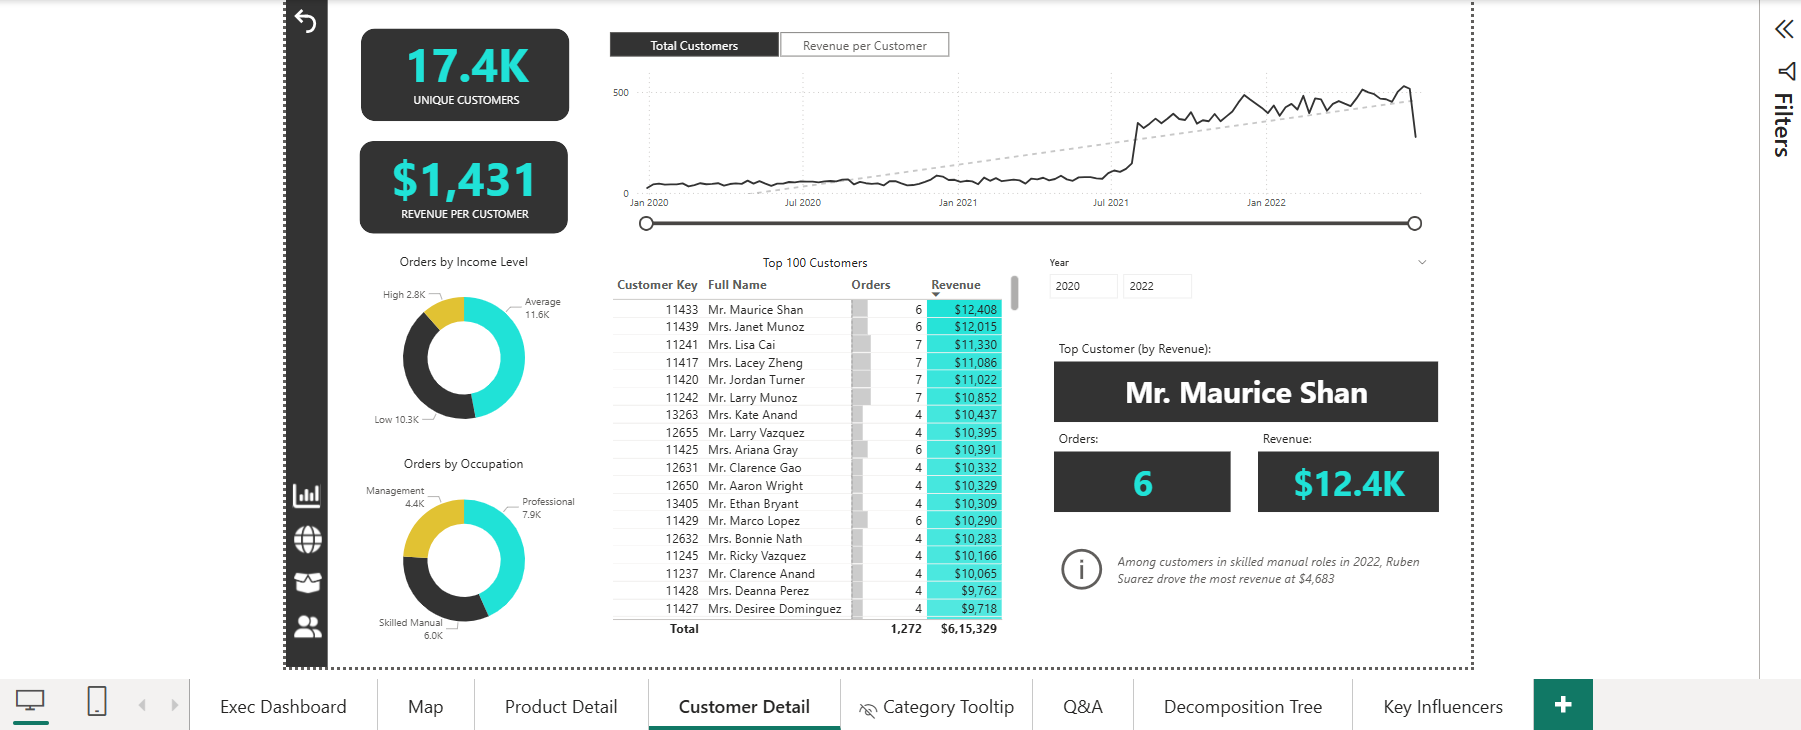

Layout of this report page (visuals, bound fields, positions):
{"tool":"powerbi","page":{"name":"Customer Detail","canvas":[1280,720],"ordinal":3},"visuals":[{"type":"shape","box":[0,0,45,720],"z":0},{"type":"actionButton","box":[2.5,516.7,45.6,37.8],"z":0,"group":"g1"},{"type":"shape","box":[81.7,30,225,100],"z":1000},{"type":"actionButton","box":[3.3,563.4,45.6,37.8],"z":1000,"group":"g1"},{"type":"actionButton","box":[3.3,611.1,45.6,37.8],"z":2000,"group":"g1"},{"type":"shape","box":[80,152.7,225,100],"z":2000},{"type":"card","fields":{"Values":["Measure Table.Total Customers"]},"box":[66.7,0,256.2,150],"z":3000},{"type":"actionButton","box":[3.3,657.8,45.6,37.8],"z":3000,"group":"g1"},{"type":"card","fields":{"Values":["Measure Table.Average Revenue per Customer"]},"box":[65,122.7,256.2,150],"z":4000},{"type":"lineChart","fields":{"Y":["Measure Table.Total Customers"],"Category":["Calendar Lookup.Date Hierarchy.Year","Calendar Lookup.Date Hierarchy.Start of Month","Calendar Lookup.Date Hierarchy.Start of Week","Calendar Lookup.Date Hierarchy.Date"]},"box":[345.9,63.3,898.6,188.8],"z":5000},{"type":"donutChart","title":"Orders by Income Level","fields":{"Category":["Customer Lookup.Income Level"],"Y":["Measure Table.Total Orders"]},"box":[63.8,272.5,257.5,210],"z":6000},{"type":"donutChart","title":"Orders by Occupation","fields":{"Y":["Measure Table.Total Orders"],"Category":["Customer Lookup.Occupation"]},"box":[63.8,490,257.5,210],"z":7000},{"type":"tableEx","title":"Top 100 Customers","fields":{"Values":["Customer Lookup.CustomerKey","Customer Lookup.Full Name","Measure Table.Total Orders","Measure Table.Total Revenue"]},"box":[346,273.6,449.4,418.4],"z":8000},{"type":"card","fields":{"Values":["Min(Customer Lookup.Full Name)"]},"box":[829.6,390.1,414.5,65.1],"z":9000},{"type":"card","fields":{"Values":["Measure Table.Total Orders"]},"box":[829.6,487,190.7,65.1],"z":10000},{"type":"card","fields":{"Values":["Measure Table.Total Revenue"]},"box":[1048.7,487,195.4,65.1],"z":11000},{"type":"textbox","box":[829.6,361.7,190.7,37.9],"z":12000},{"type":"textbox","box":[829.6,458.4,190.7,37.9],"z":13000},{"type":"textbox","box":[1048.7,458.4,190.7,37.9],"z":14000},{"type":"slicer","fields":{"Values":["Calendar Lookup.Year"]},"box":[811.6,272.4,432.9,80.3],"z":15000},{"type":"actionButton","box":[830,586.7,410,56.7],"z":16000},{"type":"actionButton","box":[3.3,5.6,35.6,35.6],"z":17000},{"type":"group","id":"g1","title":"Navigation Buttons","box":[2.5,516.7,46.4,178.9],"z":18000},{"type":"slicer","fields":{"Values":["Customer Metric Selection.Customer Metric Selection"]},"box":[323.3,27.1,415.9,36.2],"z":19000}]}

Visuals, with their boxes on the page's 1280x720 design canvas (x1, y1, x2, y2). These are canvas units, not pixel positions in the 1801x730 screenshot, which may show the page scaled, cropped or inside an application window:
shape: box(0, 0, 45, 720)
actionButton: box(2, 517, 48, 554)
shape: box(82, 30, 307, 130)
actionButton: box(3, 563, 49, 601)
actionButton: box(3, 611, 49, 649)
shape: box(80, 153, 305, 253)
card - Measure Table.Total Customers: box(67, 0, 323, 150)
actionButton: box(3, 658, 49, 696)
card - Measure Table.Average Revenue per Customer: box(65, 123, 321, 273)
lineChart - Measure Table.Total Customers x Calendar Lookup.Date Hierarchy.Year: box(346, 63, 1244, 252)
"Orders by Income Level" donutChart: box(64, 272, 321, 482)
"Orders by Occupation" donutChart: box(64, 490, 321, 700)
"Top 100 Customers" tableEx: box(346, 274, 795, 692)
card - Min(Customer Lookup.Full Name): box(830, 390, 1244, 455)
card - Measure Table.Total Orders: box(830, 487, 1020, 552)
card - Measure Table.Total Revenue: box(1049, 487, 1244, 552)
textbox: box(830, 362, 1020, 400)
textbox: box(830, 458, 1020, 496)
textbox: box(1049, 458, 1239, 496)
slicer - Calendar Lookup.Year: box(812, 272, 1244, 353)
actionButton: box(830, 587, 1240, 643)
actionButton: box(3, 6, 39, 41)
"Navigation Buttons" group: box(2, 517, 49, 696)
slicer - Customer Metric Selection.Customer Metric Selection: box(323, 27, 739, 63)
